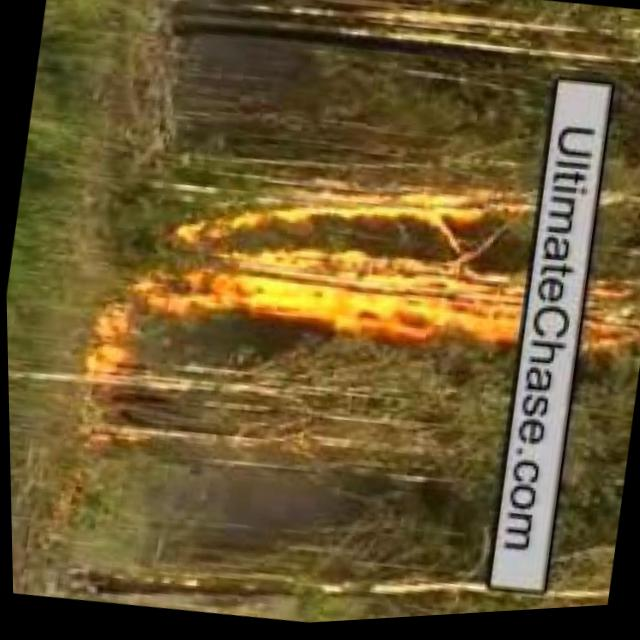Fire: (141, 148, 532, 389), (283, 0, 579, 101), (70, 284, 139, 394), (577, 278, 640, 373)
